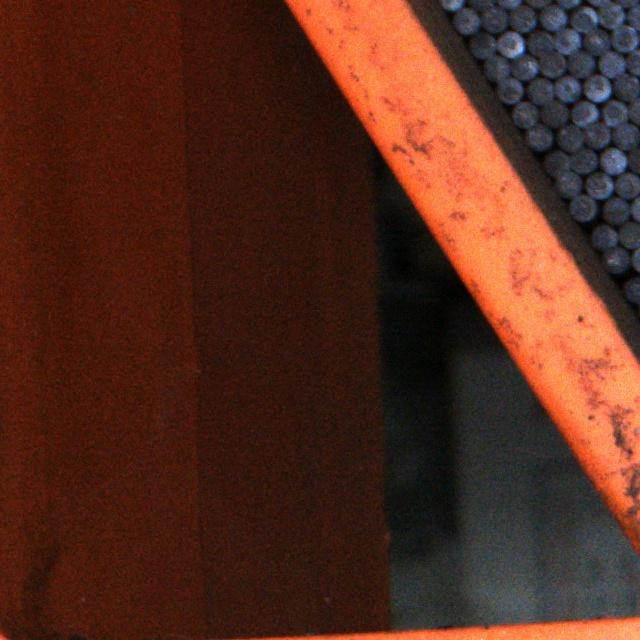tool: (600, 197, 628, 226), (508, 4, 536, 32), (585, 170, 612, 198), (583, 73, 610, 101), (570, 194, 598, 221), (510, 53, 538, 80), (613, 73, 640, 100), (497, 31, 524, 58), (556, 125, 583, 152), (583, 122, 610, 149), (613, 123, 640, 150), (600, 148, 627, 175), (603, 246, 630, 273), (569, 6, 596, 33), (523, 125, 551, 151), (553, 75, 579, 102), (539, 100, 565, 127), (511, 100, 538, 126), (469, 32, 495, 59), (614, 170, 640, 197), (524, 77, 551, 103), (554, 27, 581, 53), (554, 171, 581, 197), (571, 100, 598, 126), (612, 25, 638, 52), (540, 51, 566, 78), (583, 27, 609, 54), (540, 5, 567, 31), (600, 1, 626, 28), (453, 6, 478, 34), (497, 76, 523, 102), (600, 99, 626, 125), (598, 52, 624, 78), (543, 149, 569, 175), (568, 52, 594, 78), (589, 223, 615, 249), (483, 55, 509, 81), (481, 6, 506, 33), (571, 147, 597, 172), (525, 31, 551, 56), (618, 222, 640, 248), (624, 274, 640, 300), (626, 147, 640, 174), (627, 97, 640, 125), (626, 49, 640, 74), (627, 3, 640, 28), (466, 0, 494, 11), (630, 195, 640, 223), (439, 0, 465, 10), (631, 246, 640, 272), (496, 0, 521, 9), (524, 0, 552, 8), (556, 0, 582, 8), (616, 0, 640, 7), (586, 0, 612, 6)
